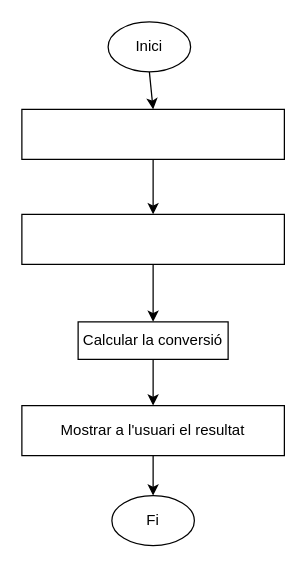
Image size: 306x568. Some labels were removed from this diagram. Each missing label, with the centre of its shape:
Definir factor de conversió: MILLES_A_METRES = 1852: pixel 152 133
Preguntar i llegir de l'usuari les milles a convertir: pixel 152 238
